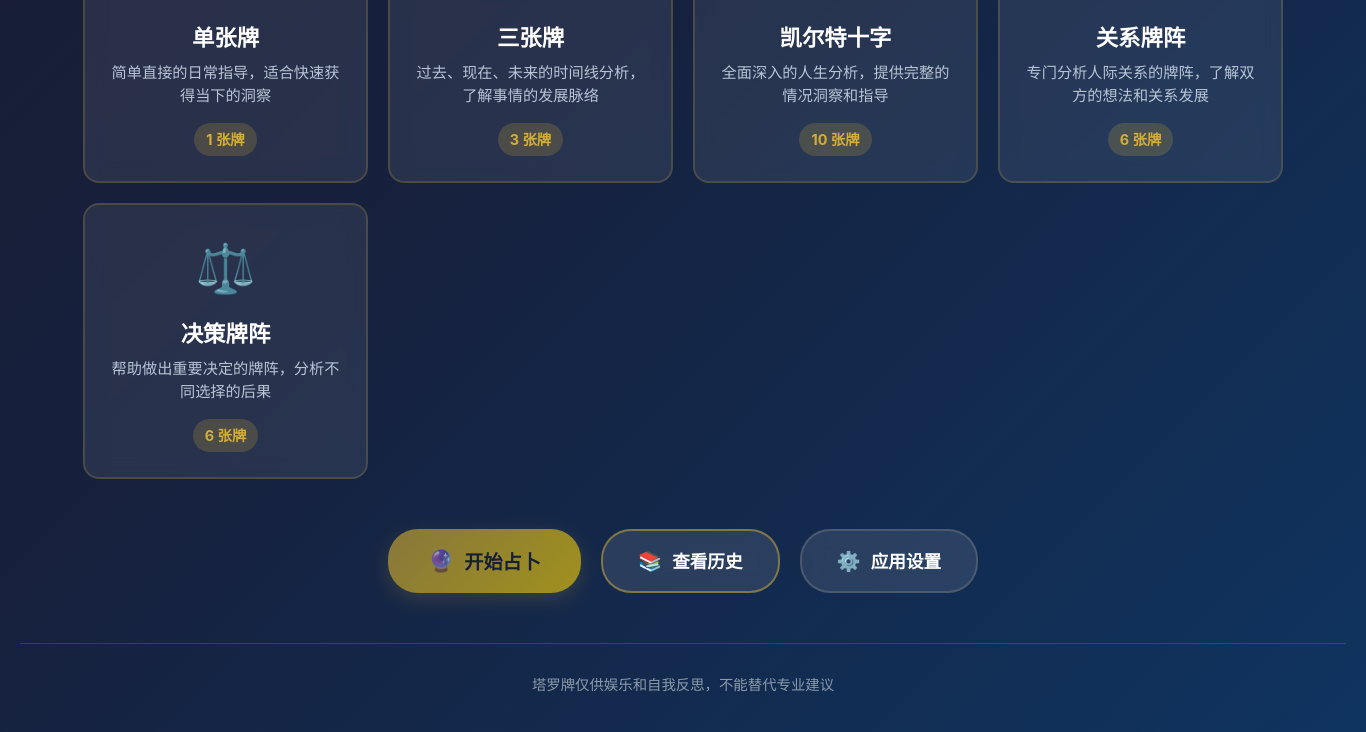
Test: 塔罗分析应用 - 集成测试 › 设置功能 › 应该能够切换设置选项卡
The image size is (1366, 732).
(page scrolled)
Click the button "⚙️ 应用设置" at (889, 561), box [800,529,978,593]
(page scrolled)
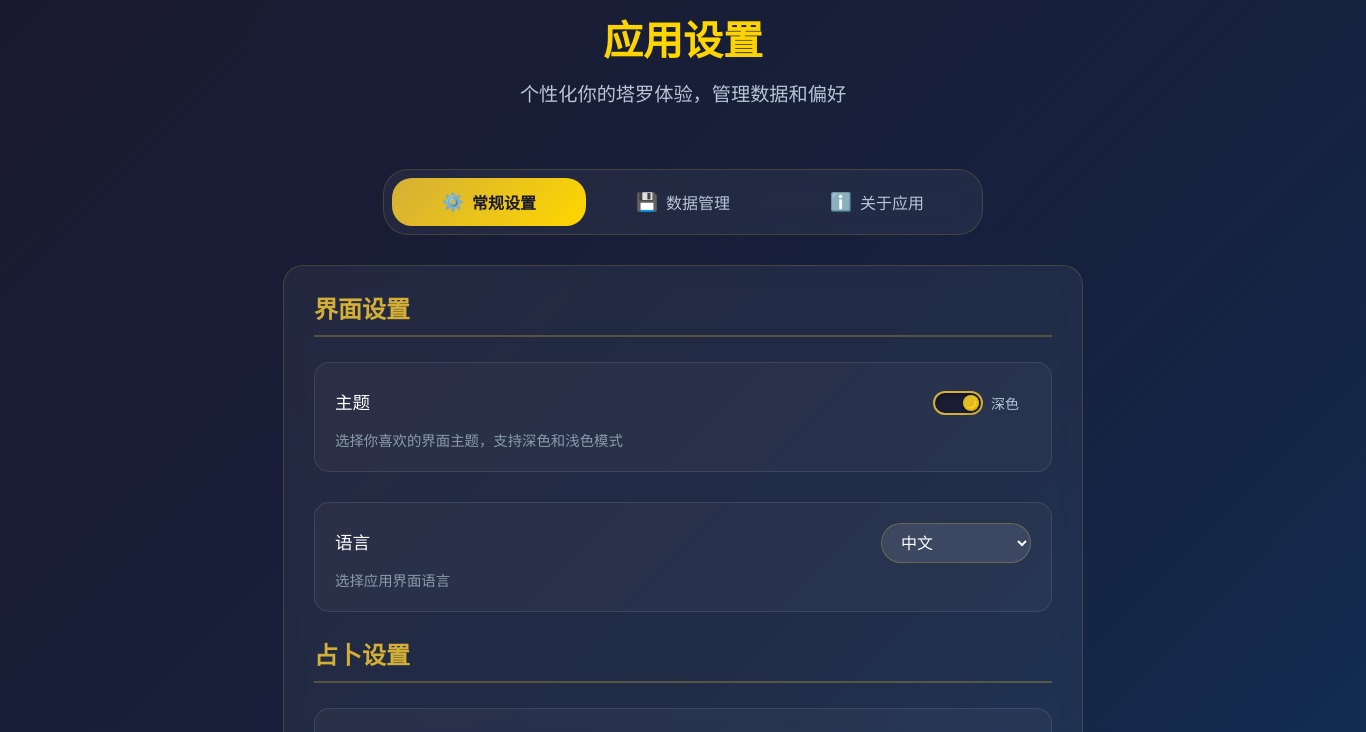
Note:  切换到数据管理
Click the button "💾 数据管理" at (683, 202), box [586,178,780,226]
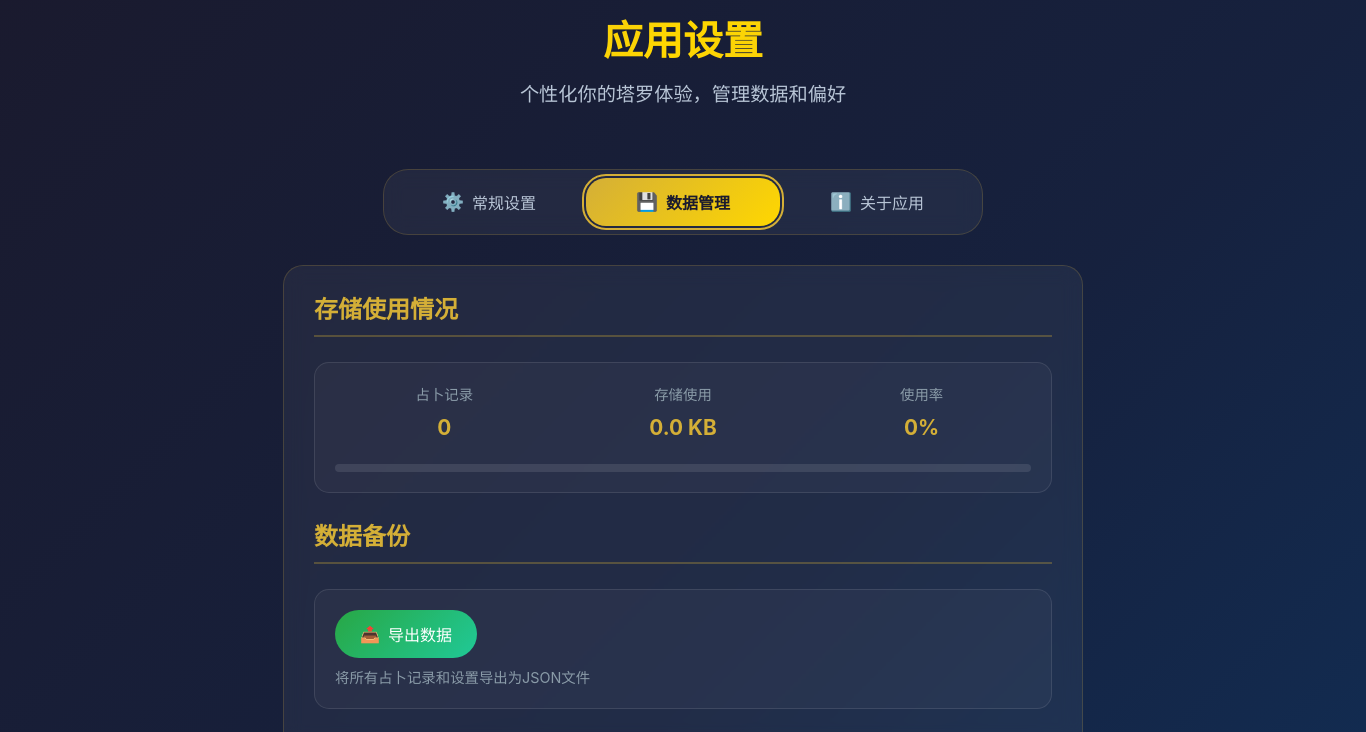
Expected: the heading "存储使用情况" is shown, [314,296,1052,337]
Expected: the heading "数据备份" is shown, [314,523,1052,564]
Note:  切换到关于应用
Click the button "ℹ️ 关于应用" at (877, 202), box [780,178,974,226]
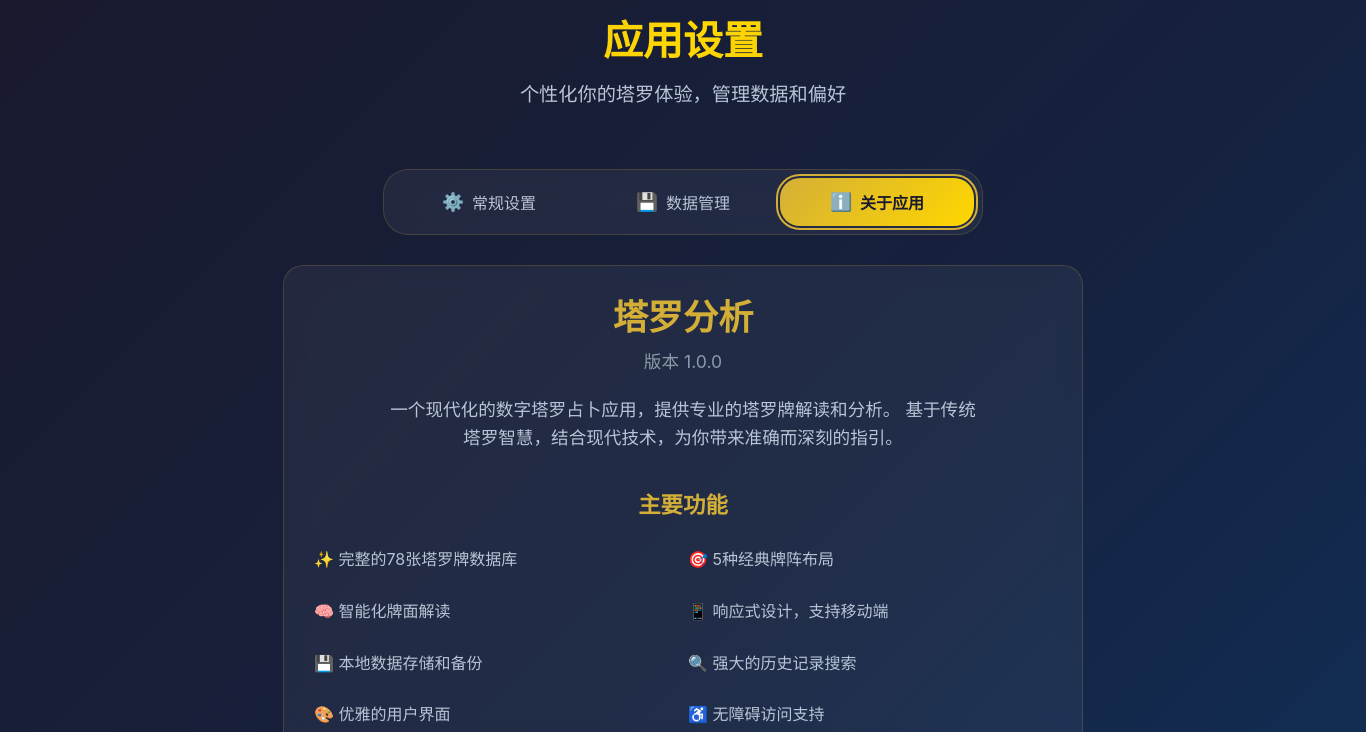
Expected: the heading "塔罗分析" is shown, [613,296,753,338]
Expected: the text "版本 1.0.0" is shown, [644,351,722,372]
